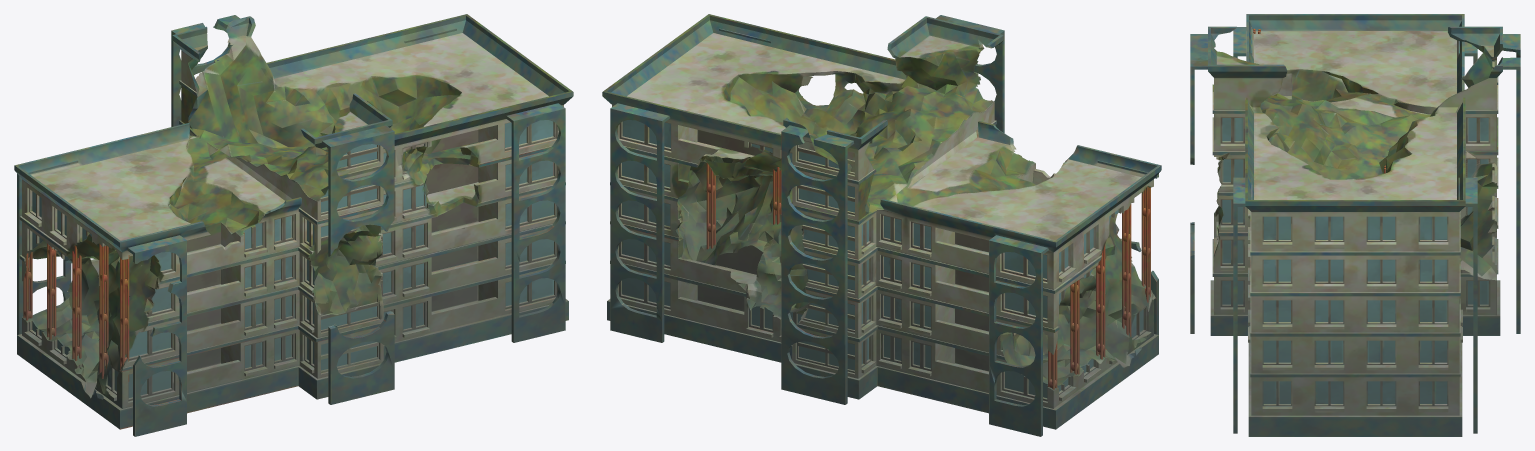
File: immeuble 1 détruit+props fix.fbx
3 views of the same model, side by side, from view 1: azimuth 30°, elevation 25°; view 2: azimuth 150°, elevation 25°; view 3: azimuth 270°, elevation 25° (orthographic). The views are drawn at different scales.
Parts seen in each view (by area): view 1: Cube.122; view 2: Cube.122; view 3: Cube.122.
Part boxes in pixels (left/top/right/bottom): Cube.122: left=14, top=14, right=573, bottom=436; Cube.122: left=602, top=14, right=1161, bottom=436; Cube.122: left=1190, top=14, right=1520, bottom=436.
Size of the model in its own units: 14285 by 8005 by 8706.
